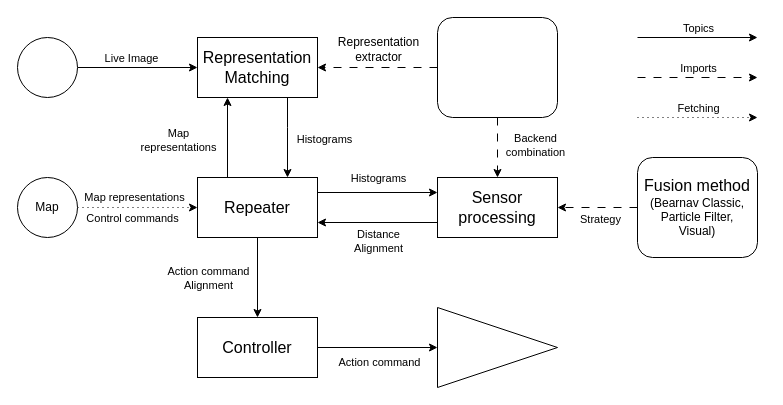
Some shapes in this 783 by 405 pixel diagram are drawn without their labels. Each missing label, with the centre of its shape:
Backends (Odometry, Siam-CNN, Feature Matching): pixel 497 67
Camera: pixel 47 67
Robot: pixel 497 347
